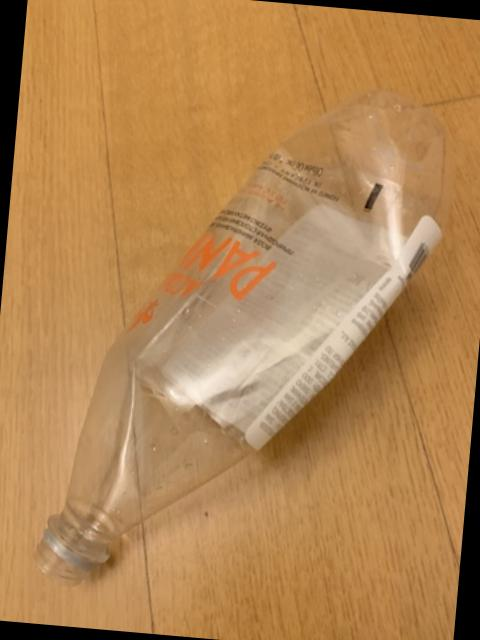plastic: (35, 89, 442, 577)
